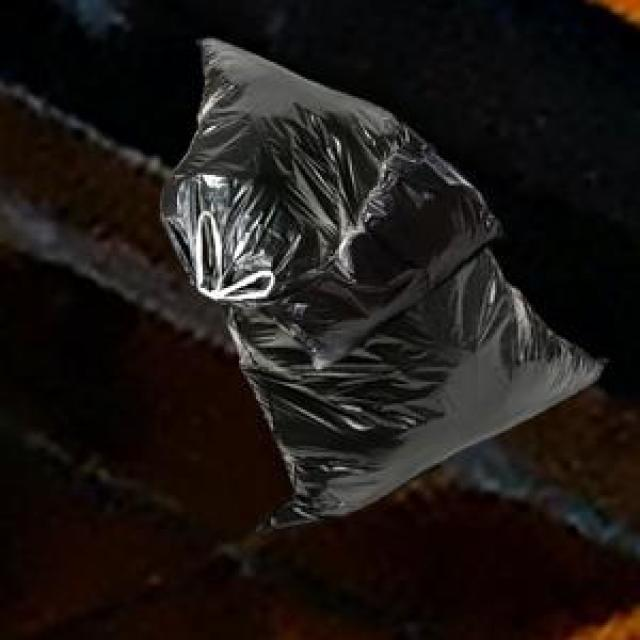Trashbag: (147, 29, 506, 324), (232, 302, 607, 542)
